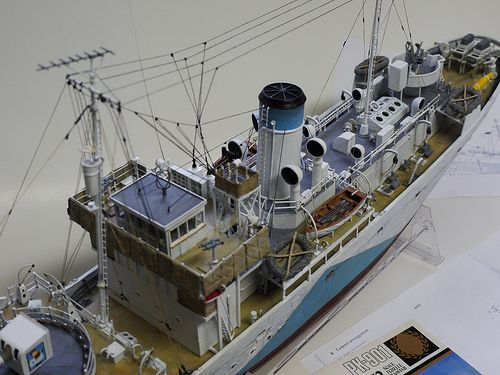ship: (81, 26, 498, 375)
